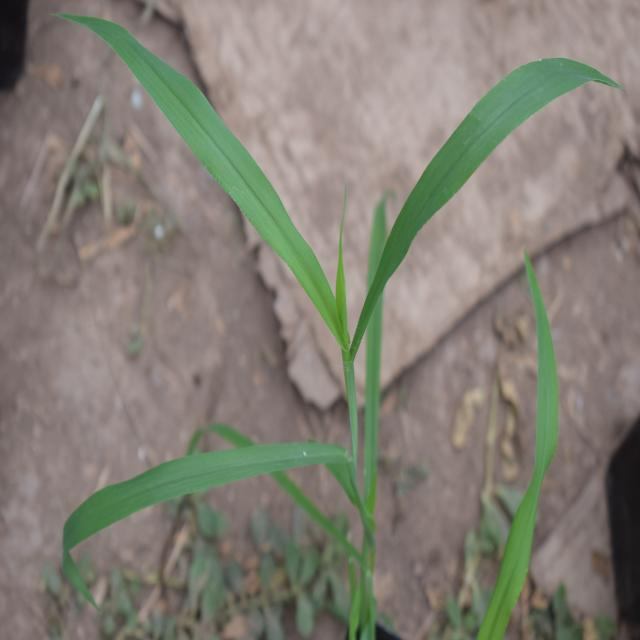crabgrass: (62, 0, 549, 543)
